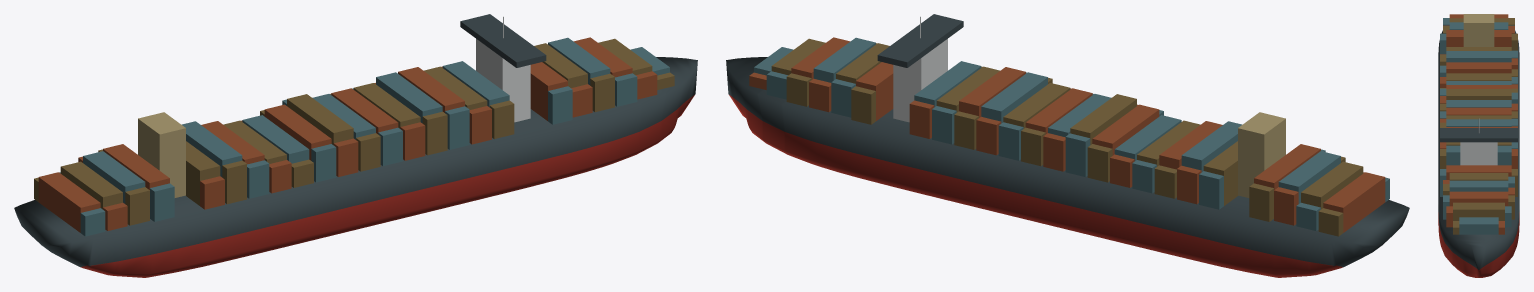
File: msc-tessa-ship-proxy.glb
The picture shows the model from 3 angles, left to right: view 1: azimuth 30°, elevation 25°; view 2: azimuth 150°, elevation 25°; view 3: azimuth 270°, elevation 25°; orthographic projection. The views are drawn at different scales.
Visible parts, largest first — view 1: ShipProxy; view 2: ShipProxy; view 3: ShipProxy.
Part boxes in pixels (bbox=[...]): ShipProxy: bbox=[14, 14, 697, 277]; ShipProxy: bbox=[726, 14, 1409, 277]; ShipProxy: bbox=[1438, 14, 1519, 277].
Size of the model in its own units: 400 by 88.5 by 61.5.
